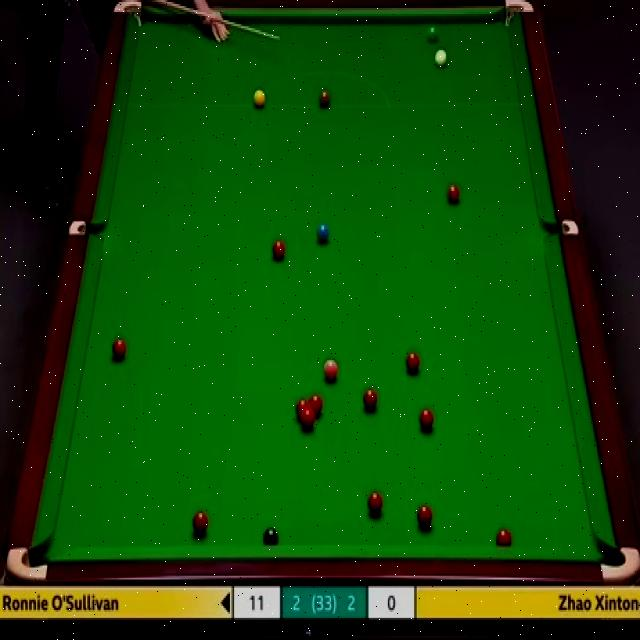black-ball: (262, 524, 280, 547)
blue-ball: (315, 221, 330, 245)
brown-ball: (316, 87, 331, 110)
green-ball: (426, 23, 442, 42)
pink-ball: (323, 355, 339, 382)
red-ball: (404, 349, 421, 378), (110, 336, 128, 363), (416, 504, 432, 531), (367, 490, 383, 516), (193, 509, 209, 535), (418, 405, 433, 431), (447, 180, 462, 206), (362, 387, 377, 413), (310, 394, 324, 419), (272, 238, 286, 262), (497, 526, 512, 546), (296, 398, 309, 419), (302, 410, 314, 430)
white-ball: (434, 47, 449, 69)
yellow-ball: (252, 88, 266, 108)
